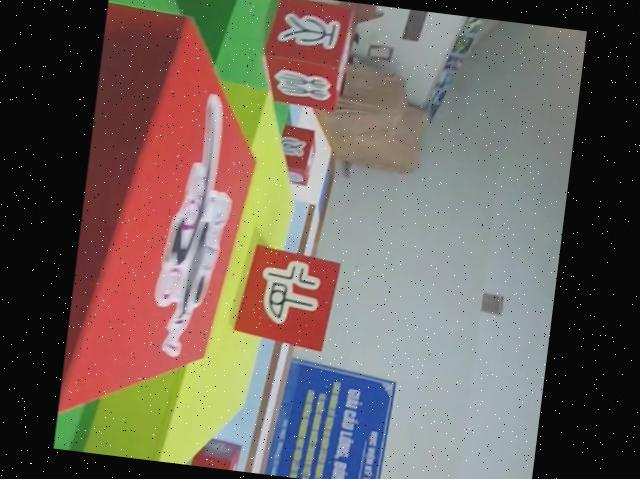R1: (58, 0, 277, 431)
R2 Fake: (255, 0, 358, 113), (270, 121, 320, 187)
R2 Real: (230, 240, 347, 354), (181, 432, 245, 471)
